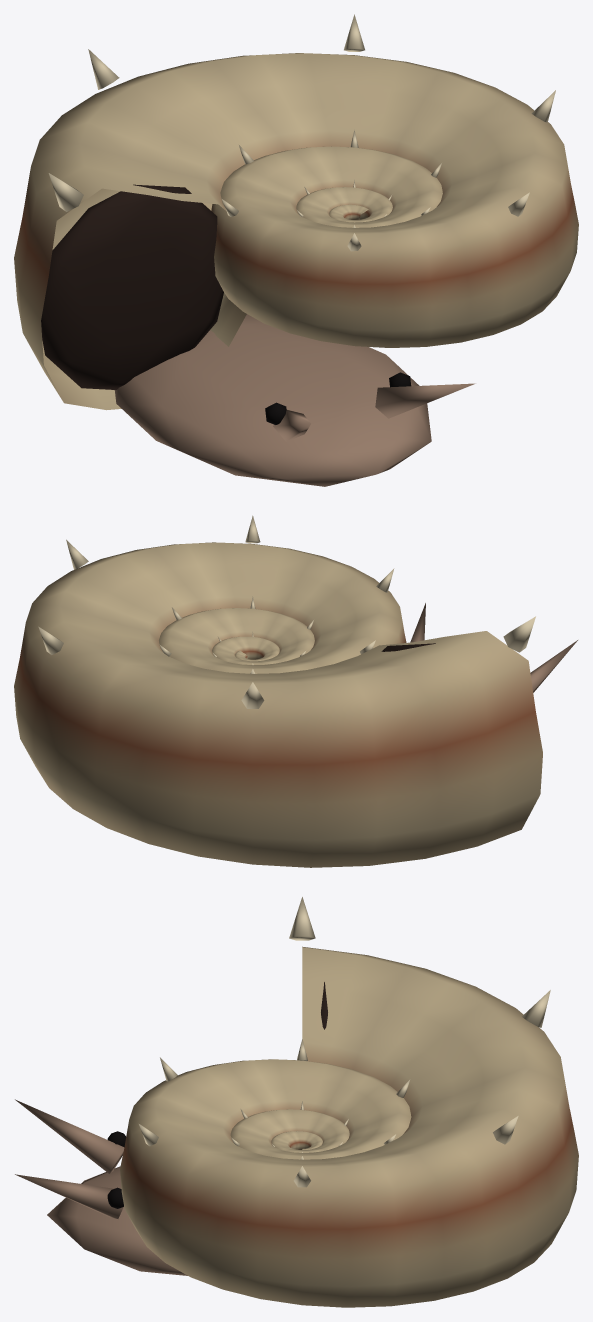
The model's file is PoleumitaDiscors.fbx.
The picture shows the model from 3 angles, top to bottom: view 1: azimuth 30°, elevation 25°; view 2: azimuth 150°, elevation 25°; view 3: azimuth 270°, elevation 25°; orthographic projection. The views are drawn at different scales.
Parts seen in each view (by area): view 1: PoleumitaDiscors; view 2: PoleumitaDiscors; view 3: PoleumitaDiscors.
Boxes of the visible parts, <box> form: PoleumitaDiscors: <box>14,14,578,486</box>; PoleumitaDiscors: <box>14,515,577,867</box>; PoleumitaDiscors: <box>15,897,578,1307</box>.
Size of the model in its own units: 0.759 by 0.3924 by 0.7633.
